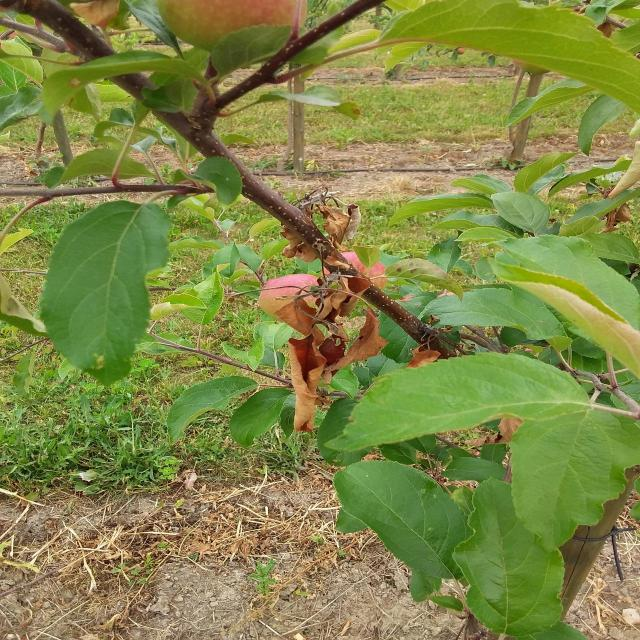-FireBlight-: (264, 185, 382, 426)
